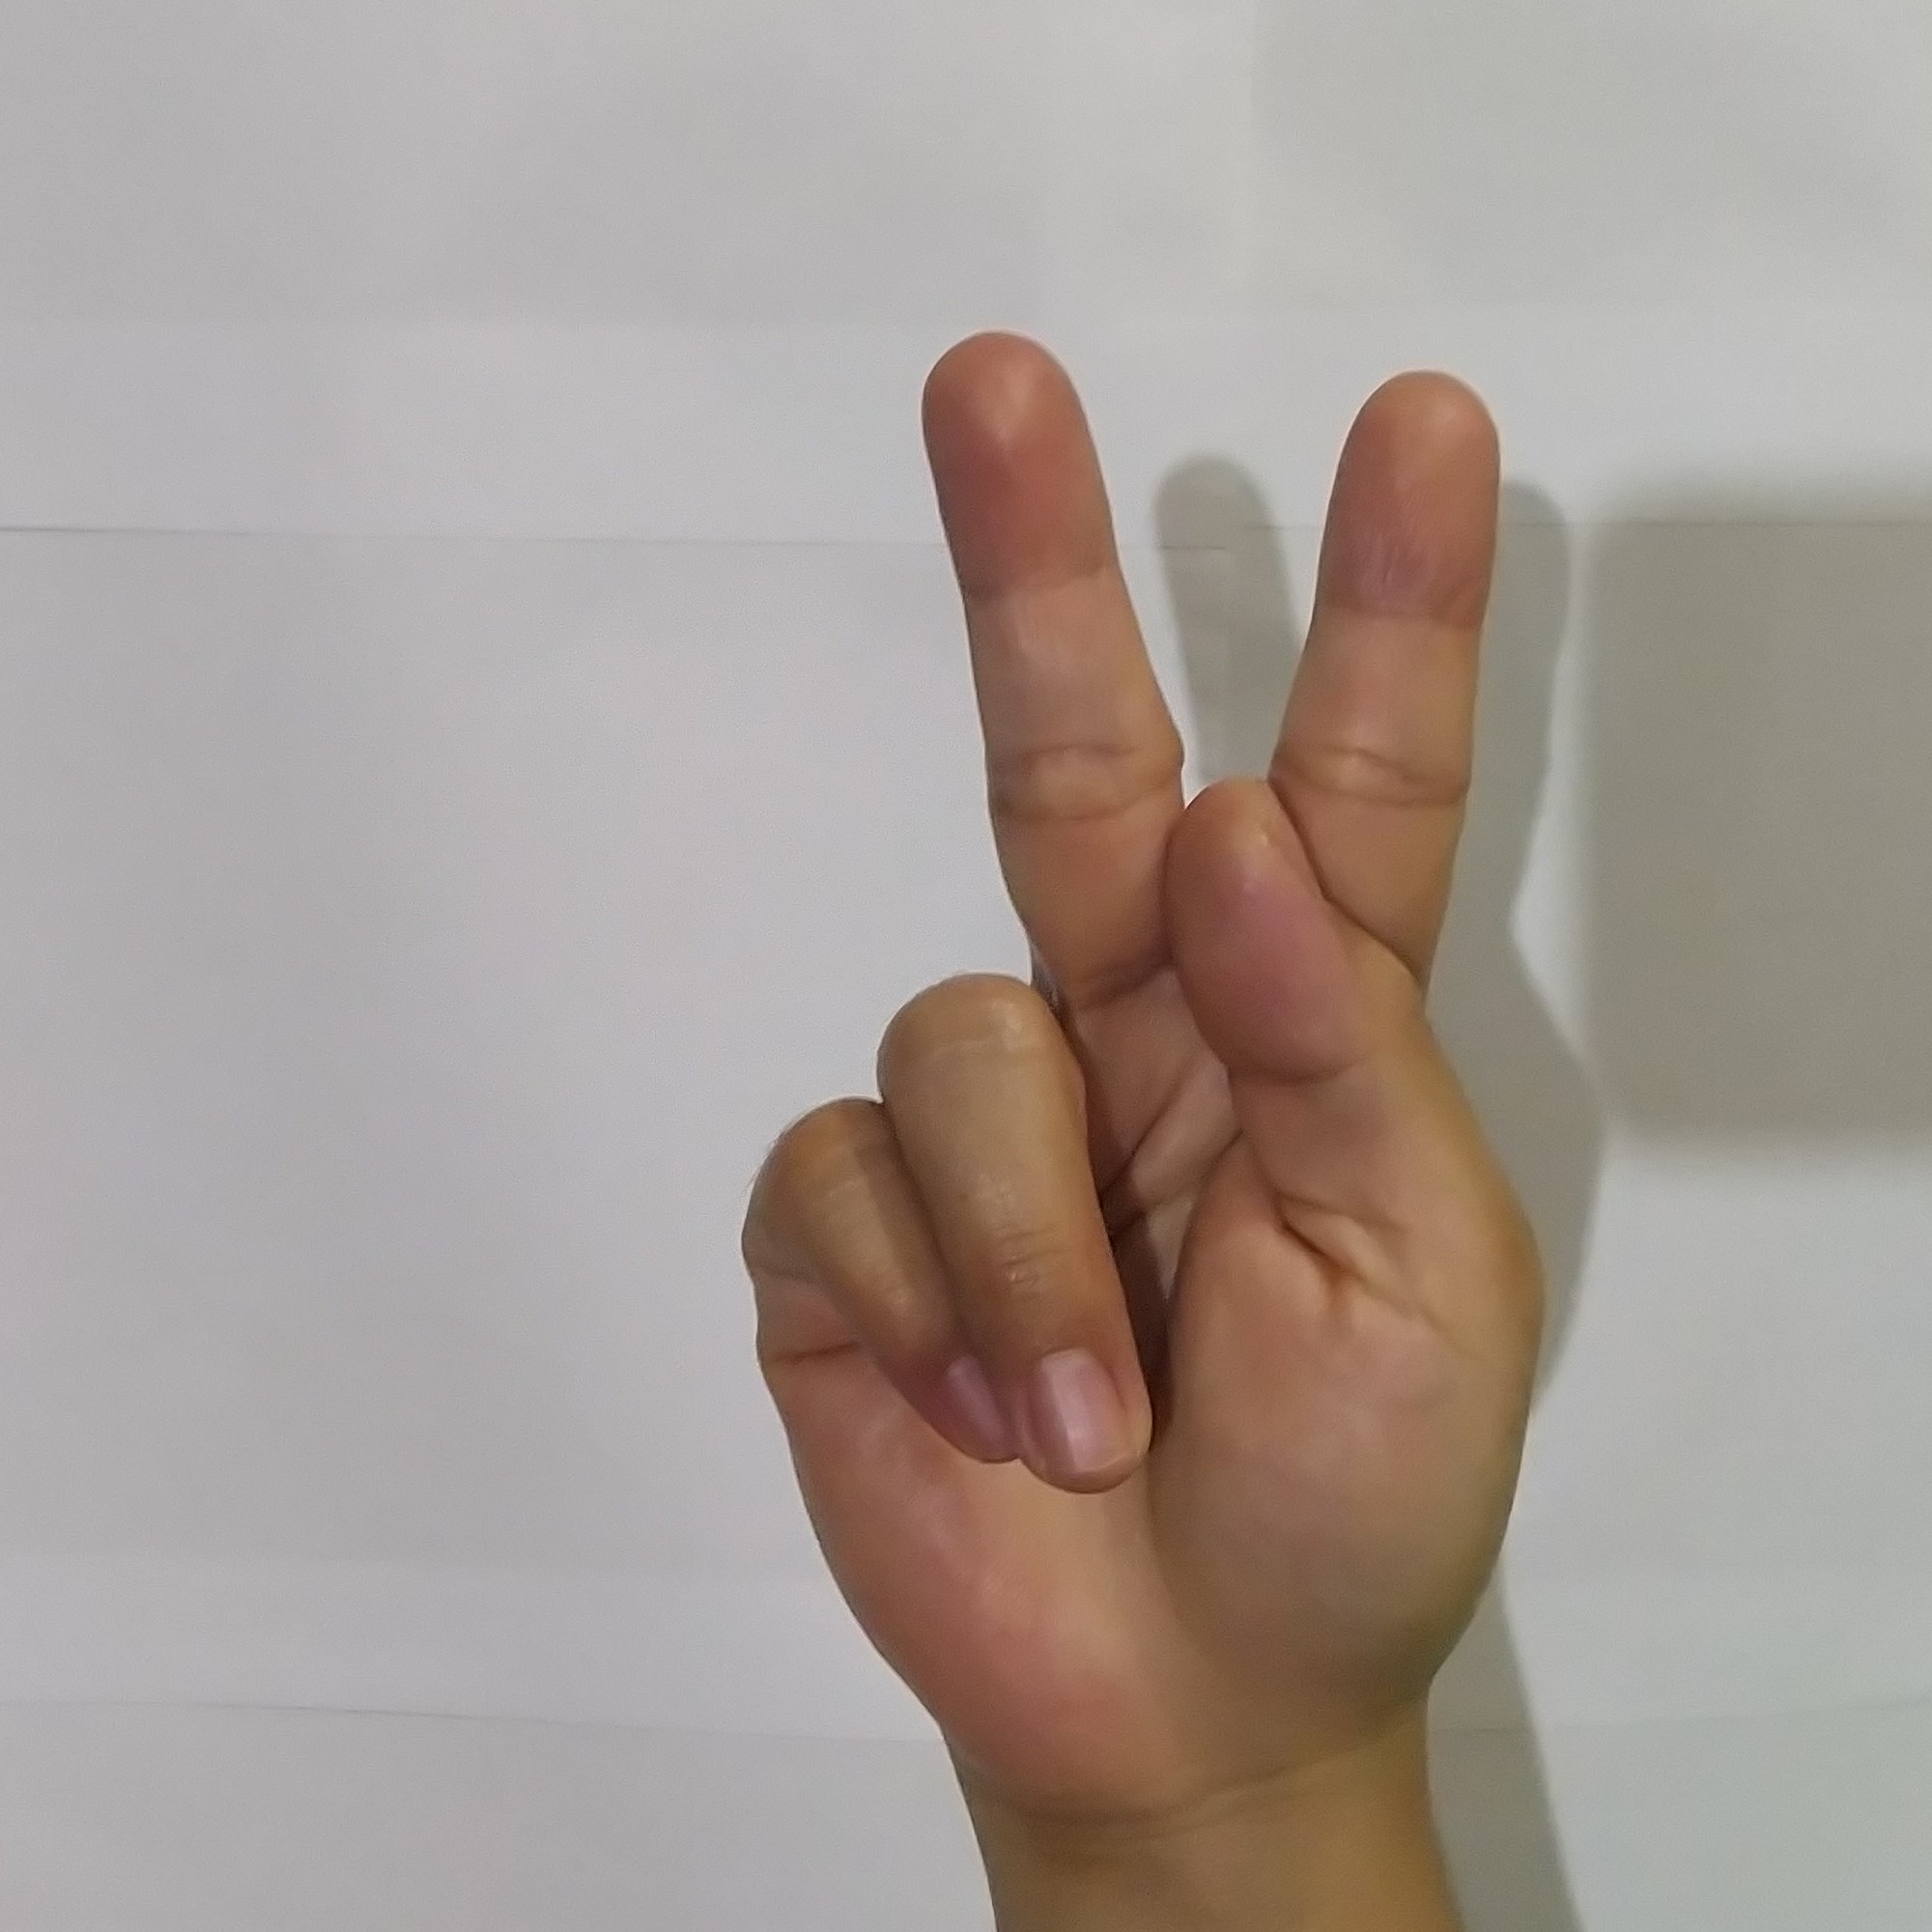K: (708, 306, 1569, 1707)
